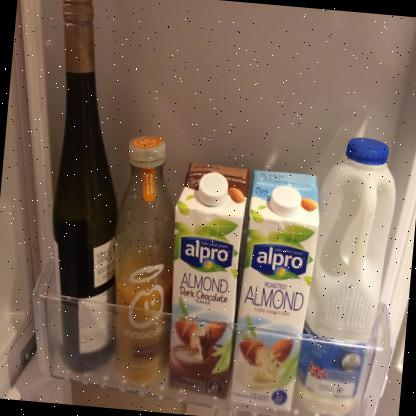Clear plastic bottle: (115, 136, 175, 385)
Drink carton: (229, 170, 319, 412), (169, 163, 250, 400)
Glass bottle: (52, 0, 118, 373)
Metal bottle cap: (63, 0, 94, 16)
Other plastic container: (295, 138, 396, 416)
Plastic bottle cap: (346, 138, 389, 165), (270, 186, 302, 217), (198, 173, 228, 206), (129, 136, 166, 162)
